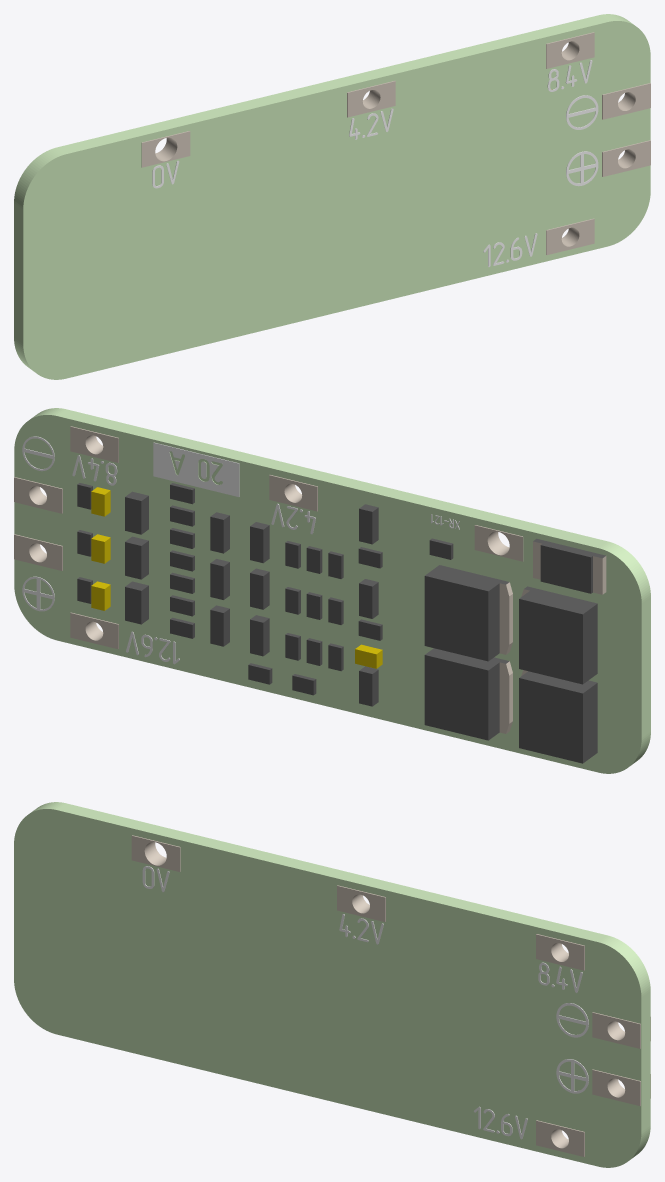
File: BMS 3S 20A REV2.0.glb
3 views of the same model, one above another, from view 1: azimuth 30°, elevation 25°; view 2: azimuth 150°, elevation 25°; view 3: azimuth 330°, elevation 25° (orthographic).
Parts seen in each view (by area): view 1: Node3, Node6, Node1, Node2; view 2: Node3, Node5, Node6, Node1, Node7, Node2, Node4; view 3: Node3, Node6, Node1, Node2.
Part boxes in pixels (box(x1,y1,x2,y2)): Node3: box(14, 14, 650, 379); Node6: box(141, 32, 650, 255); Node1: box(152, 60, 598, 266); Node2: box(152, 60, 598, 265); Node3: box(14, 408, 650, 773); Node5: box(77, 483, 605, 763); Node6: box(14, 426, 606, 733); Node1: box(24, 442, 459, 660); Node7: box(91, 487, 382, 668); Node2: box(22, 436, 457, 664); Node4: box(22, 455, 459, 653); Node3: box(14, 802, 650, 1167); Node6: box(131, 835, 650, 1156); Node1: box(142, 866, 588, 1139); Node2: box(145, 866, 588, 1134).
Size of the model in its own units: 58.5 by 20 by 4.
